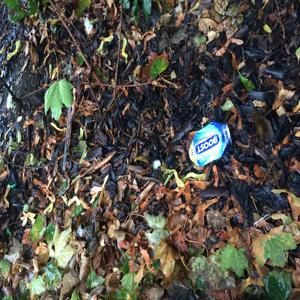metal: (178, 120, 235, 161), (147, 157, 167, 170)
